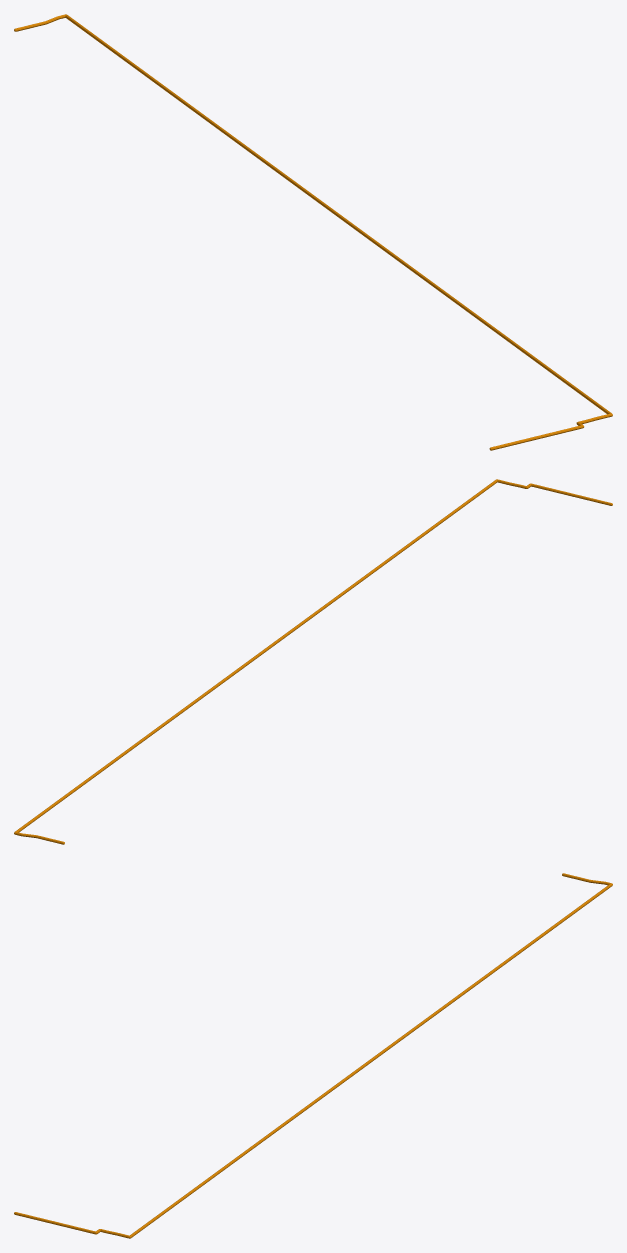
The picture shows the model from 3 angles, top to bottom: view 1: azimuth 30°, elevation 25°; view 2: azimuth 150°, elevation 25°; view 3: azimuth 330°, elevation 25°; orthographic projection. The views are drawn at different scales.
Bounding box in the file's own units: 839 × 20 × 6274.
